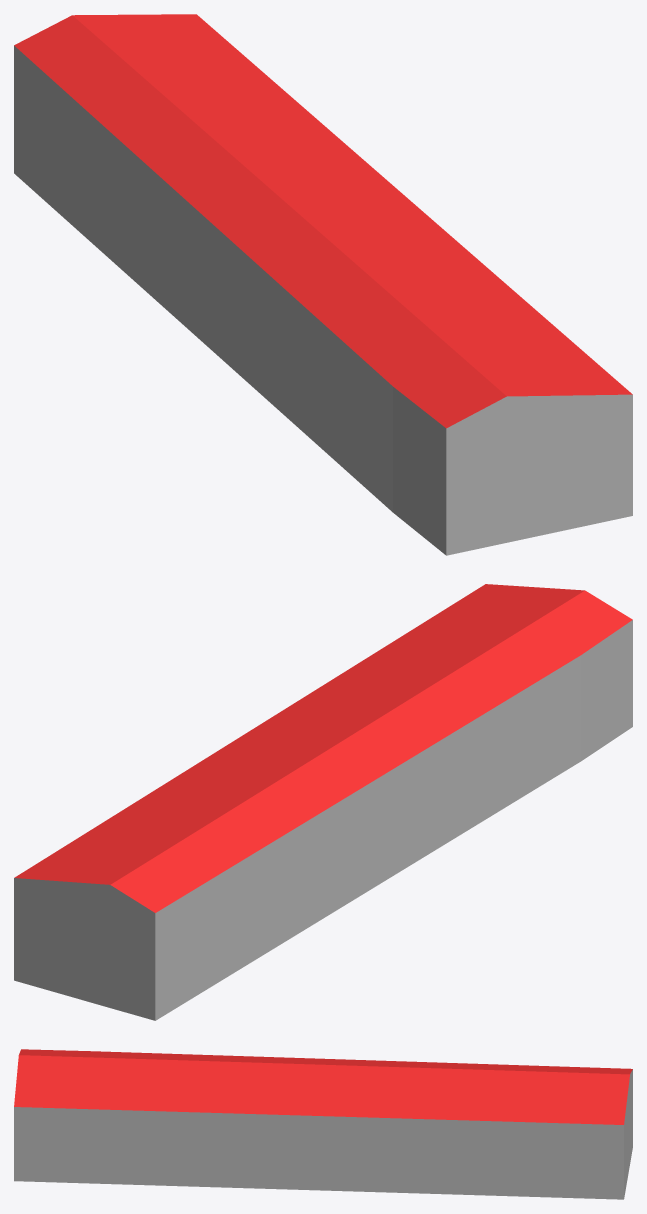
File: DEBE3D04YY50000I2X.dae
3 renders of one model, top to bottom at view 1: azimuth 30°, elevation 25°; view 2: azimuth 150°, elevation 25°; view 3: azimuth 270°, elevation 25°, orthographic. The views are drawn at different scales.
Size of the model in its own units: 8.76 by 31.62 by 5.05.
